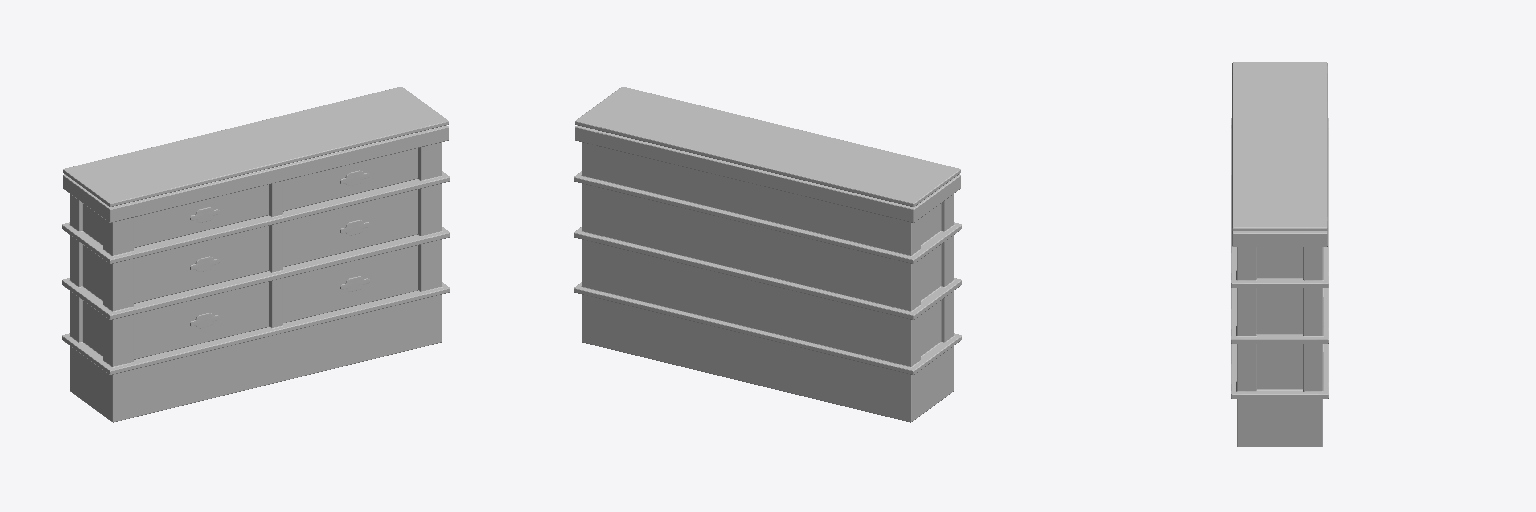
File: Drawers_2.obj
The picture shows the model from 3 angles: view 1: azimuth 30°, elevation 25°; view 2: azimuth 150°, elevation 25°; view 3: azimuth 270°, elevation 25°; orthographic projection.
Visible parts, largest first — view 1: Drawers; view 2: Drawers; view 3: Drawers.
Boxes of the visible parts, <box> form: Drawers: <box>62,87,449,422</box>; Drawers: <box>574,87,961,422</box>; Drawers: <box>1231,62,1328,446</box>.
Size of the model in its own units: 145 by 90.47 by 36.11.